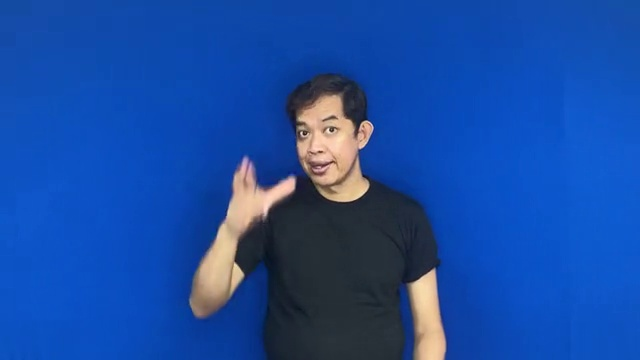chicken: (209, 151, 301, 238)
